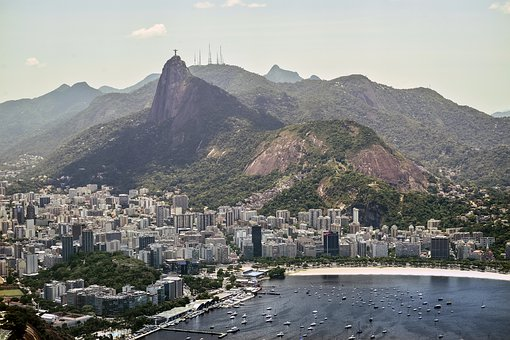city: (15, 190, 498, 273)
mountain: (18, 45, 507, 220)
